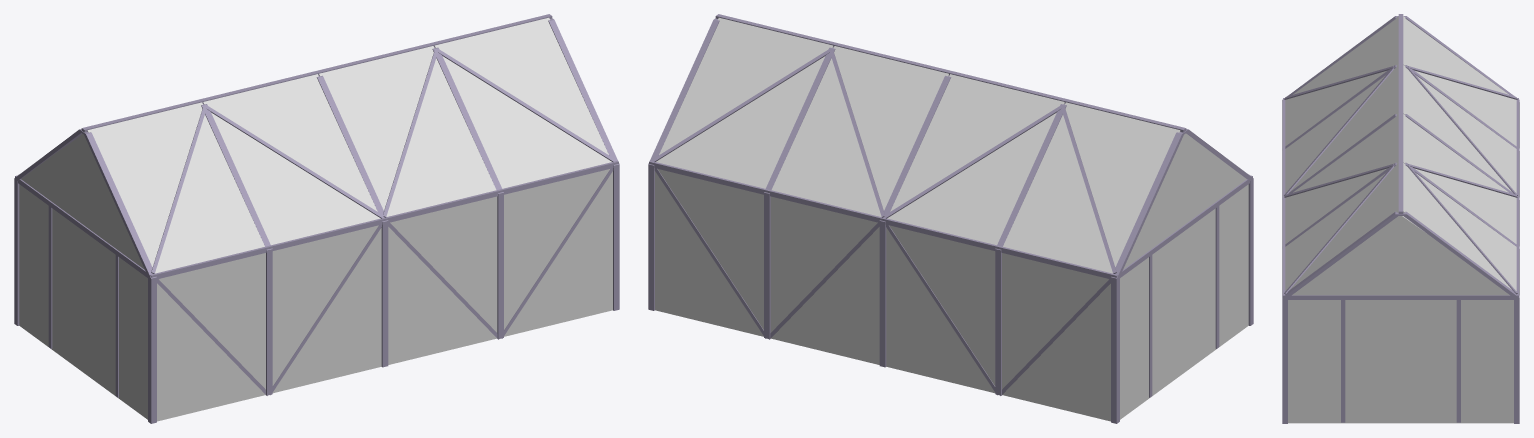
File: greenhouse.gltf
3 views of the same model, side by side, from view 1: azimuth 30°, elevation 25°; view 2: azimuth 150°, elevation 25°; view 3: azimuth 270°, elevation 25° (orthographic). The views are drawn at different scales.
Visible parts, largest first — view 1: Cube.007, Cube.005, Cube.008, Cube.006, Cube.004, Cube.002, Cube, Cube.001, Cube.003, Cube.009, a-frame2, long-side-horizontal (+15 smaller); view 2: Cube.007, Cube.005, Cube.008, Cube.006, Cube.004, Cube.002, Cube, Cube.001, Cube.003, Cube.009, a-frame2, long-side-horizontal (+15 smaller); view 3: Cube.007, Cube.005, Cube.008, Cube.006, Cube.004, Cube.009, a-frame4, short-side-verticle, top-horizontal, long-side-horizontal, short-side-horizontal, upper-cross0 (+7 smaller).
Boxes of the visible parts, x1,y1,x2,y2 form: Cube.007: (19, 184, 147, 419); Cube.005: (319, 46, 496, 216); Cube.008: (87, 102, 264, 273); Cube.006: (434, 17, 611, 188); Cube.004: (203, 74, 380, 245); Cube.002: (388, 196, 497, 364); Cube: (272, 225, 381, 393); Cube.001: (157, 253, 265, 421); Cube.003: (504, 169, 612, 336); Cube.009: (21, 134, 144, 269); a-frame2: (14, 129, 156, 423); long-side-horizontal: (15, 161, 618, 279); Cube.007: (1120, 184, 1248, 419); Cube.005: (771, 46, 948, 216); Cube.008: (1003, 102, 1180, 273); Cube.006: (656, 17, 833, 188); Cube.004: (887, 74, 1064, 245); Cube.002: (770, 196, 879, 364); Cube: (886, 225, 995, 393); Cube.001: (1002, 253, 1110, 421); Cube.003: (655, 169, 763, 336); Cube.009: (1123, 133, 1246, 269); a-frame2: (1111, 129, 1253, 423); long-side-horizontal: (649, 161, 1252, 279); Cube.007: (1288, 300, 1513, 423); Cube.005: (1285, 114, 1516, 243); Cube.008: (1285, 16, 1516, 146); Cube.006: (1285, 163, 1516, 290); Cube.004: (1285, 65, 1516, 193); Cube.009: (1292, 216, 1509, 295); a-frame4: (1282, 211, 1519, 423); short-side-verticle: (1341, 300, 1460, 422); top-horizontal: (1398, 14, 1403, 215); long-side-horizontal: (1283, 98, 1518, 296); short-side-horizontal: (1288, 295, 1513, 299); upper-cross0: (1284, 165, 1517, 294).
Bounding box in the file's own units: 40.5 × 20.32 × 20.5.
